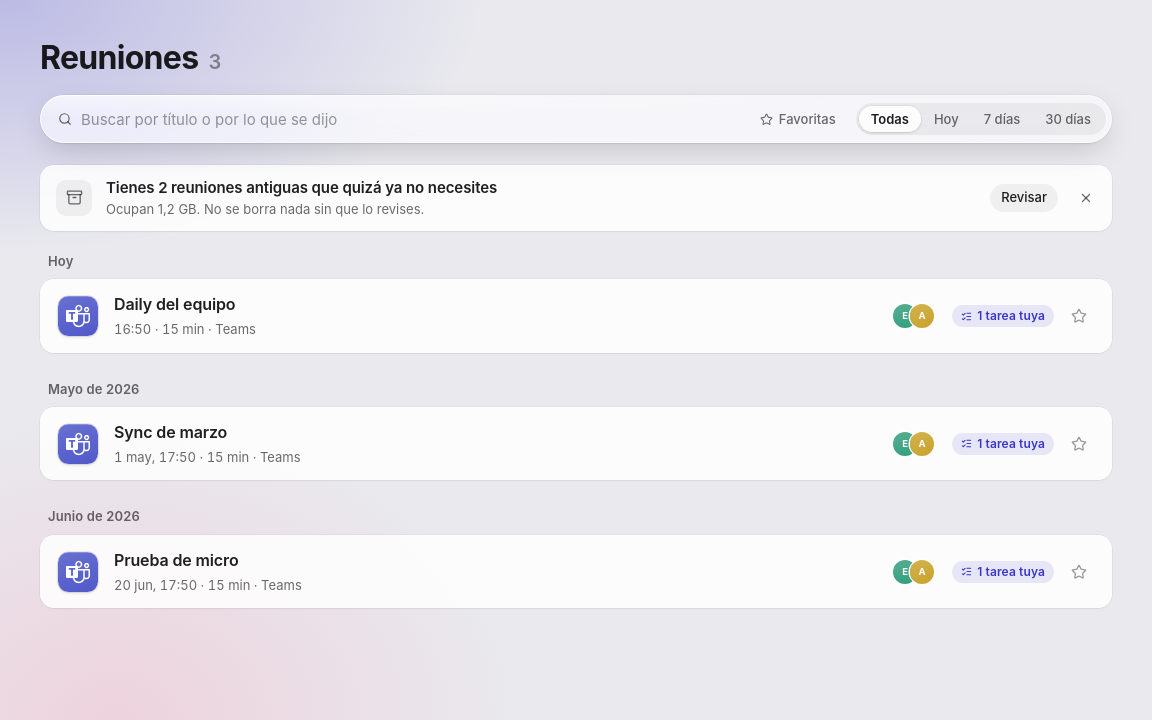
Test: sugerencia de limpieza de reuniones antiguas › «Mantener» la quita para siempre sin borrarla
Click the button "Revisar" at (1024, 198), box [990,184,1058,212]
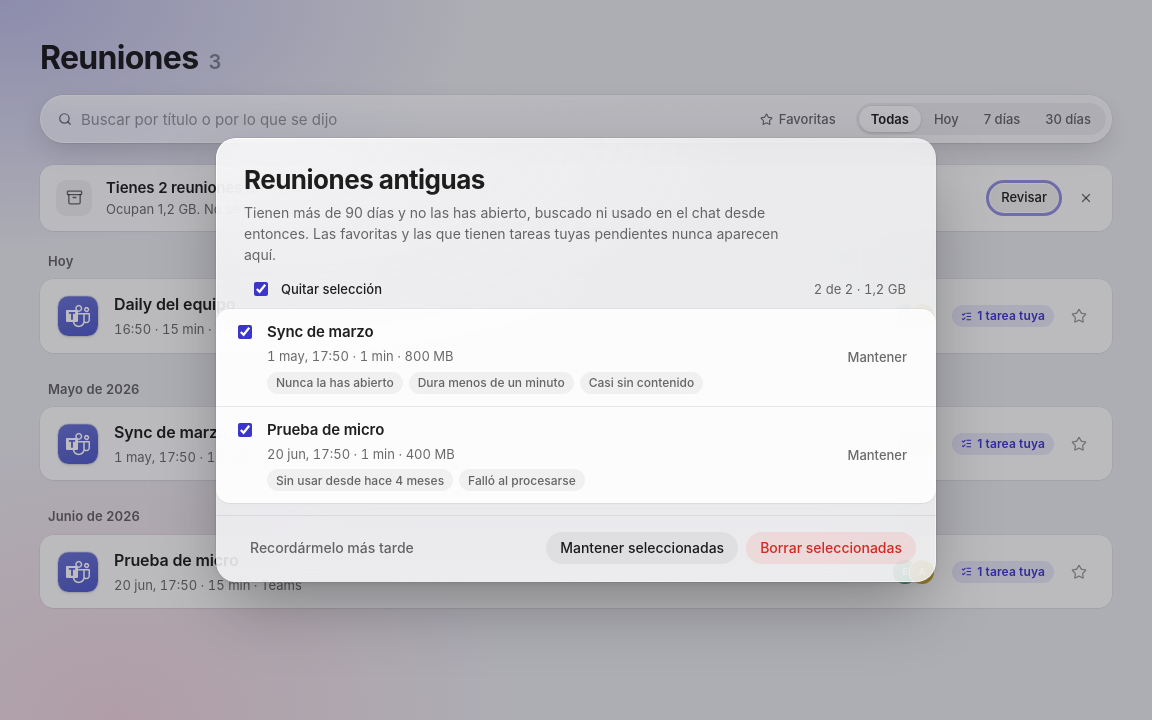
Click the button with aria-label "Mantener Sync de marzo" at (877, 358), box [836,344,918,372]
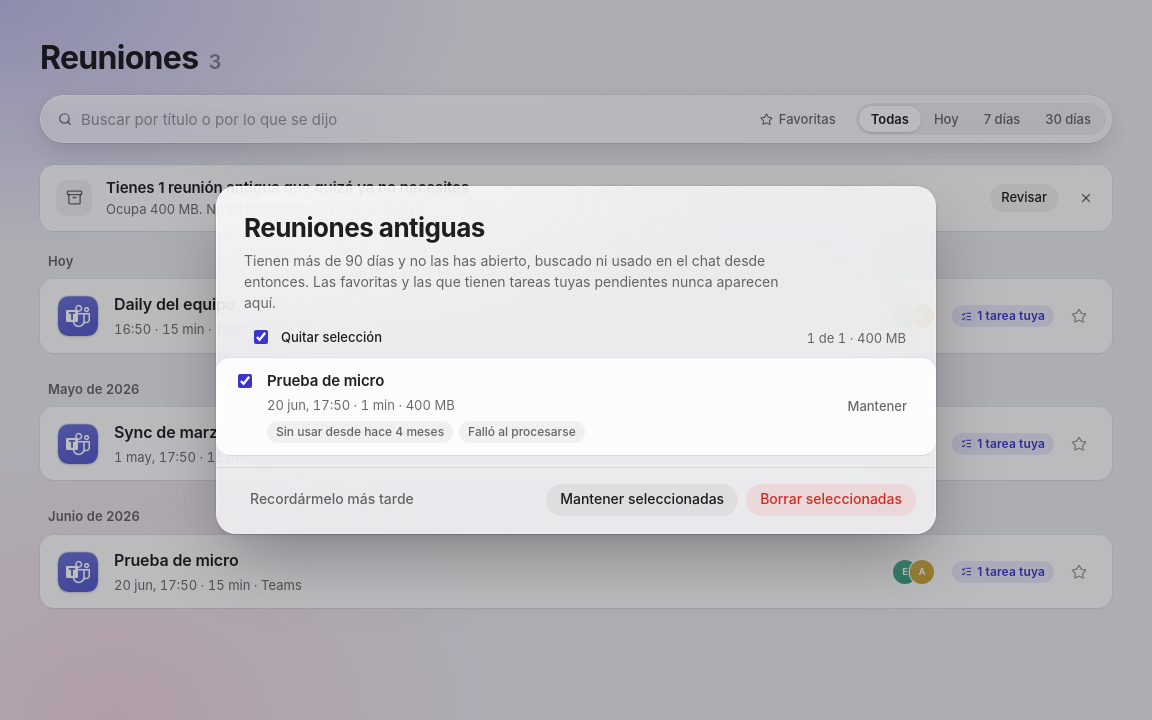
Now the text "Tienes 1 reunión antigua que quizá ya no necesites" is shown, box [106,178,469,197]
